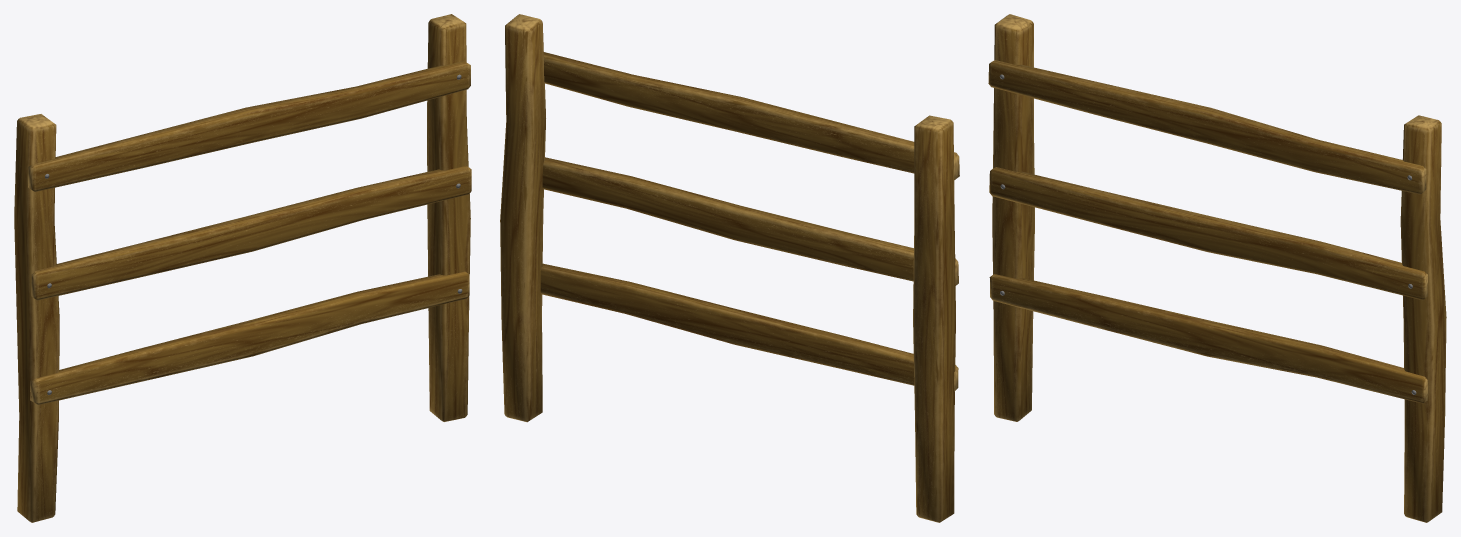
The model's file is Fence_Var3_1.fbx.
The picture shows the model from 3 angles, left to right: view 1: azimuth 30°, elevation 25°; view 2: azimuth 150°, elevation 25°; view 3: azimuth 330°, elevation 25°; orthographic projection.
Visible parts, largest first — view 1: Fence_Var3_1_LOD0; view 2: Fence_Var3_1_LOD0; view 3: Fence_Var3_1_LOD0.
Part boxes in pixels (x1,y1,x2,y2): Fence_Var3_1_LOD0: [14, 14, 471, 522]; Fence_Var3_1_LOD0: [500, 14, 959, 522]; Fence_Var3_1_LOD0: [988, 14, 1446, 522].
Bounding box in the file's own units: 152 × 13.11 × 130.
Materials: 1 (1 with a texture image).
